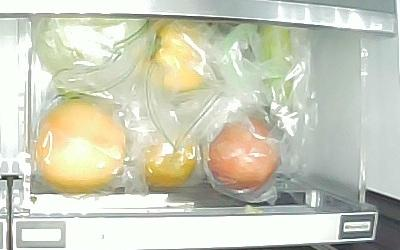apple_vinyl: (210, 115, 286, 192)
cucumber_vinyl: (259, 27, 293, 111)
grapefruit_vinyl: (36, 97, 126, 194)
lettuce_vinyl: (35, 18, 143, 69)
paprika_vinyl: (149, 21, 206, 92)
persimmon_vinyl: (144, 132, 200, 192)
